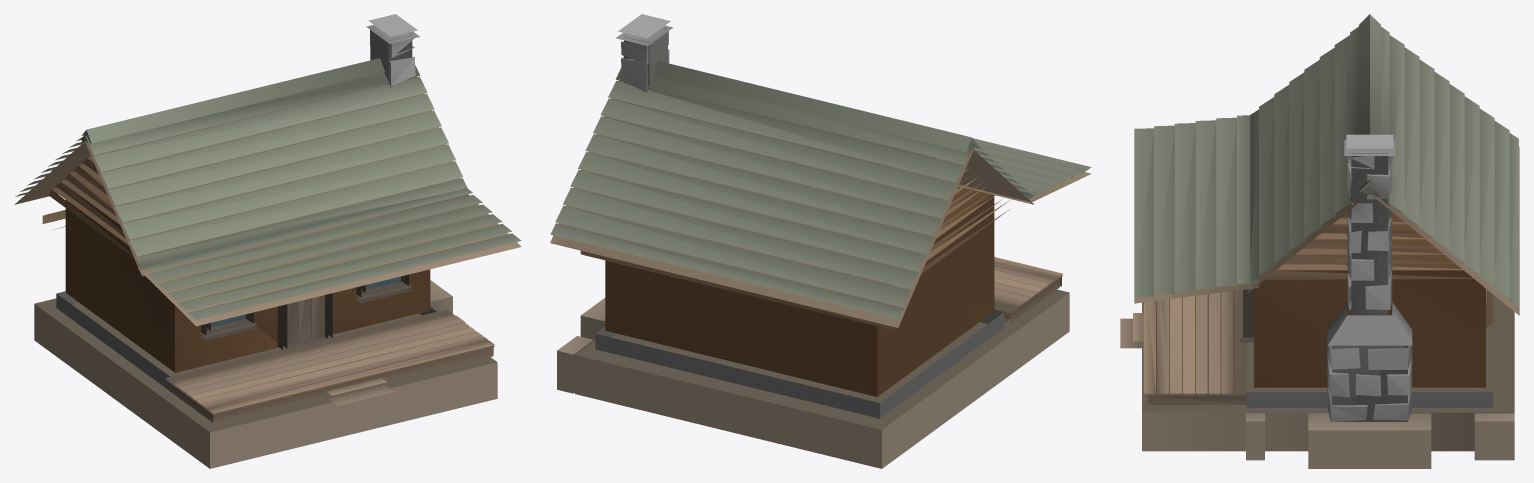
The model's file is porch.lod.glb.
3 views of the same model, side by side, from view 1: azimuth 30°, elevation 25°; view 2: azimuth 150°, elevation 25°; view 3: azimuth 270°, elevation 25° (orthographic). The views are drawn at different scales.
Visible parts, largest first — view 1: porch; view 2: porch; view 3: porch.
Part boxes in pixels (<box>): porch: <box>14,14,521,468</box>; porch: <box>550,14,1091,468</box>; porch: <box>1120,14,1519,468</box>.
Bounding box in the file's own units: 9.98 × 8.26 × 9.6.
